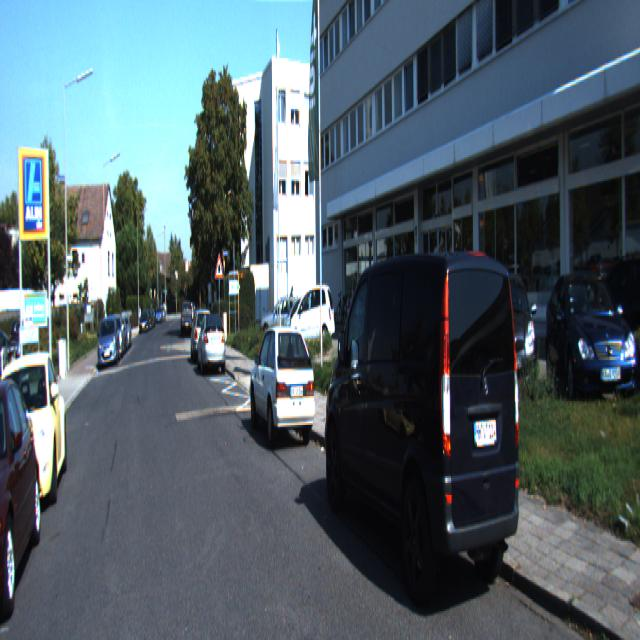Car: (319, 231, 529, 638), (544, 264, 640, 426), (0, 348, 68, 524), (471, 276, 544, 424), (247, 326, 318, 457), (286, 283, 336, 354), (197, 313, 226, 378), (96, 316, 118, 368), (179, 300, 191, 338)
